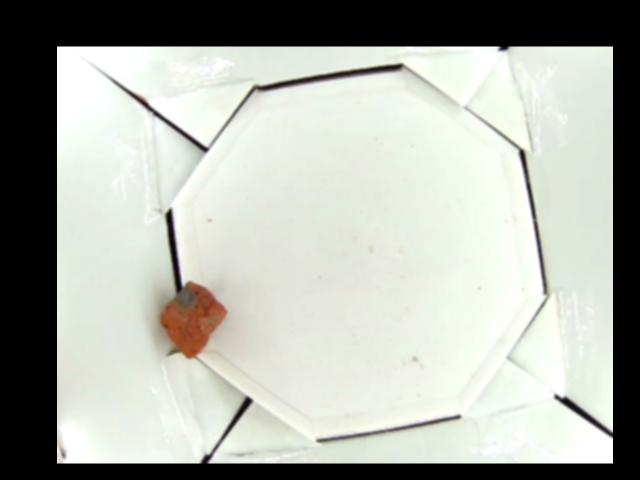Brisk: (159, 281, 226, 360)
